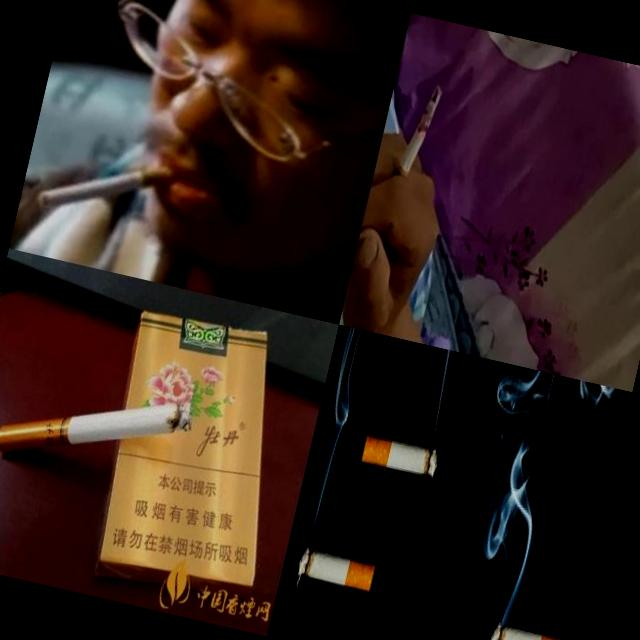cigarette: (0, 361, 195, 491), (34, 133, 190, 239), (384, 76, 446, 206), (294, 542, 378, 596), (360, 433, 441, 480), (486, 619, 568, 640)
